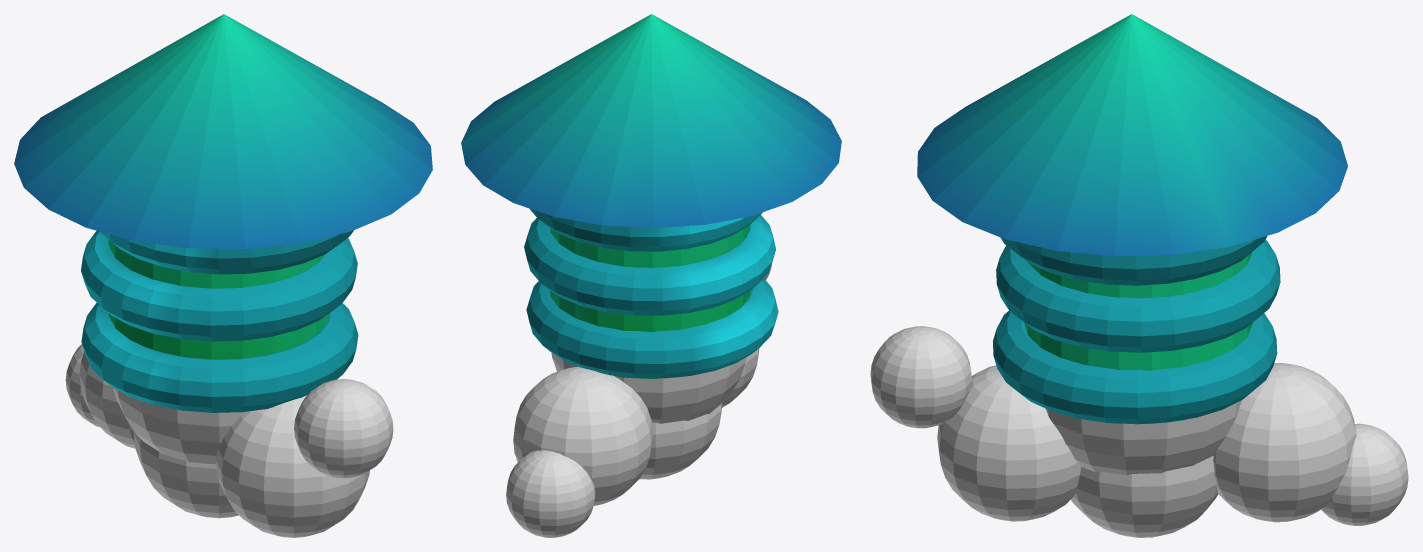
The model's file is cabana.fbx.
3 views of the same model, side by side, from view 1: azimuth 30°, elevation 25°; view 2: azimuth 150°, elevation 25°; view 3: azimuth 270°, elevation 25° (orthographic). The views are drawn at different scales.
Parts seen in each view (by area): view 1: Cone, Torus.001, Torus, Sphere.002, Sphere.003, Cylinder, Torus.002, Sphere, Sphere.005, Sphere.001, Sphere.004; view 2: Cone, Torus, Torus.001, Sphere.001, Sphere.004, Cylinder, Torus.002, Sphere, Sphere.005, Sphere.002; view 3: Cone, Sphere.001, Torus, Torus.001, Sphere.002, Sphere.003, Sphere, Sphere.005, Cylinder, Torus.002, Sphere.004.
Part boxes in pixels (bbox=[...]): Cone: bbox=[14, 14, 432, 248]; Torus.001: bbox=[81, 303, 358, 412]; Torus: bbox=[81, 231, 357, 341]; Sphere.002: bbox=[216, 395, 369, 537]; Sphere.003: bbox=[294, 379, 393, 478]; Cylinder: bbox=[108, 240, 329, 359]; Torus.002: bbox=[101, 230, 353, 274]; Sphere: bbox=[113, 387, 245, 464]; Sphere.005: bbox=[133, 432, 238, 518]; Sphere.001: bbox=[79, 352, 135, 448]; Sphere.004: bbox=[65, 344, 99, 426]; Cone: bbox=[461, 14, 841, 227]; Torus: bbox=[524, 215, 775, 315]; Torus.001: bbox=[526, 278, 778, 378]; Sphere.001: bbox=[513, 366, 652, 505]; Sphere.004: bbox=[506, 450, 595, 537]; Cylinder: bbox=[550, 225, 750, 378]; Torus.002: bbox=[530, 209, 762, 251]; Sphere: bbox=[551, 353, 746, 423]; Sphere.005: bbox=[639, 403, 722, 479]; Sphere.002: bbox=[722, 348, 759, 407]; Cone: bbox=[917, 14, 1347, 256]; Sphere.001: bbox=[1213, 363, 1356, 522]; Torus: bbox=[996, 239, 1280, 352]; Torus.001: bbox=[993, 311, 1277, 424]; Sphere.002: bbox=[937, 365, 1080, 521]; Sphere.003: bbox=[870, 326, 971, 428]; Sphere: bbox=[1046, 400, 1241, 475]; Sphere.005: bbox=[1071, 455, 1218, 537]; Cylinder: bbox=[1024, 252, 1252, 423]; Torus.002: bbox=[1000, 236, 1267, 285]; Sphere.004: bbox=[1321, 423, 1408, 525].
Bounding box in the file's own units: 3.77 × 4.98 × 4.71.
